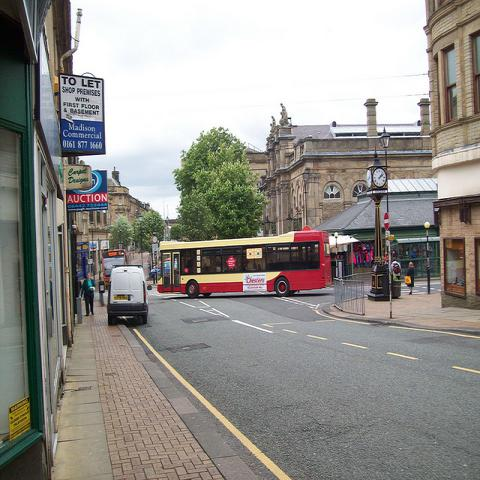bus: (156, 224, 332, 300), (102, 249, 126, 290)
truck: (107, 267, 153, 326)
